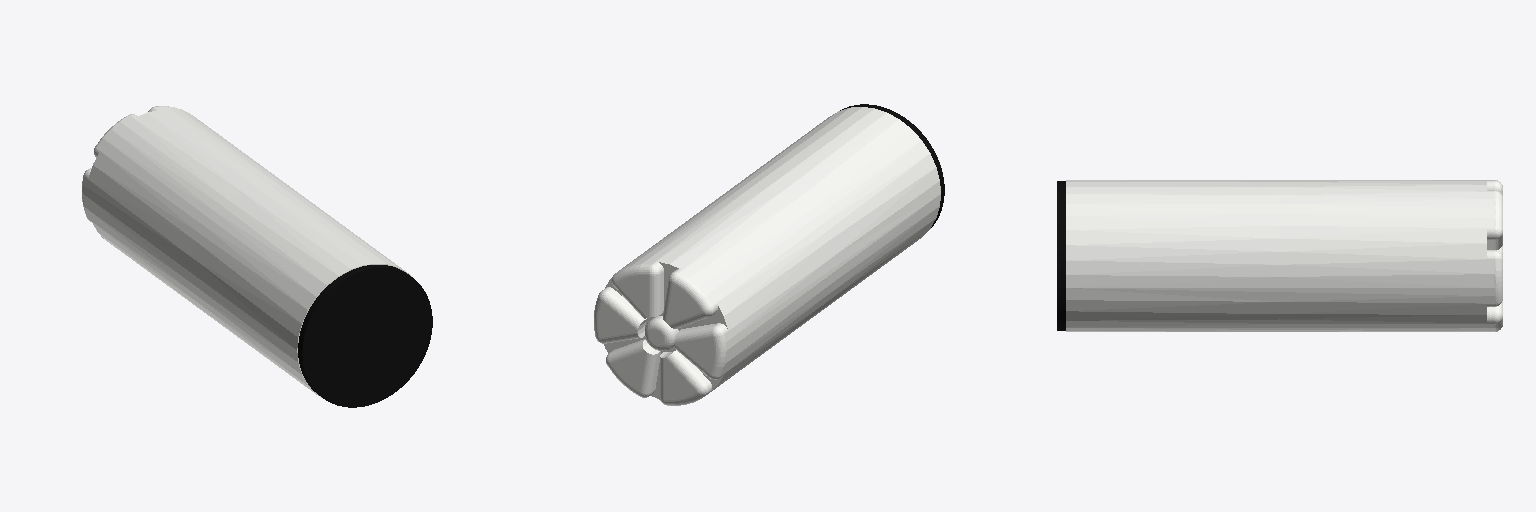
File: tennisbottle.obj
3 views of the same model, side by side, from view 1: azimuth 30°, elevation 25°; view 2: azimuth 150°, elevation 25°; view 3: azimuth 270°, elevation 25° (orthographic).
Visible parts, largest first — view 1: Body1; view 2: Body1; view 3: Body1.
Boxes of the visible parts, x1=… form: Body1: x1=82, y1=106, x2=432, y2=407; Body1: x1=594, y1=104, x2=944, y2=405; Body1: x1=1057, y1=180, x2=1502, y2=331.
Bounding box in the file's own units: 0.087 × 0.087 × 0.255.